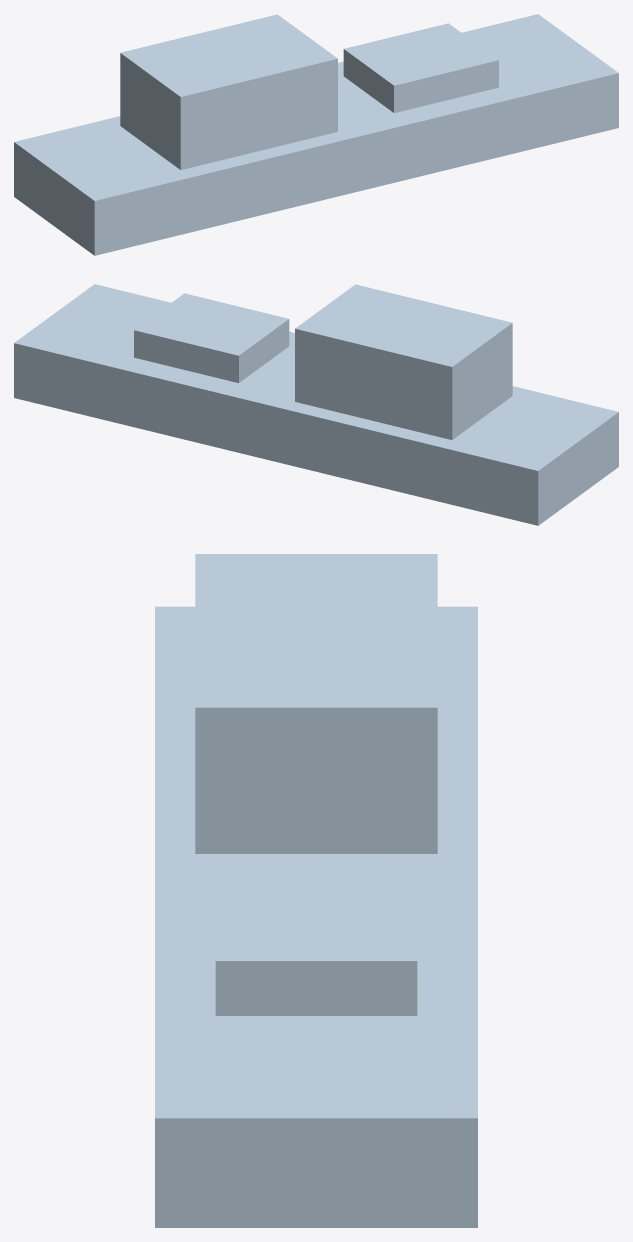
Rendered from vessel.gltf.
3 renders of one model, top to bottom at view 1: azimuth 30°, elevation 25°; view 2: azimuth 150°, elevation 25°; view 3: azimuth 270°, elevation 25°, orthographic. The views are drawn at different scales.
Bounding box in the file's own units: 30 × 7 × 8.
